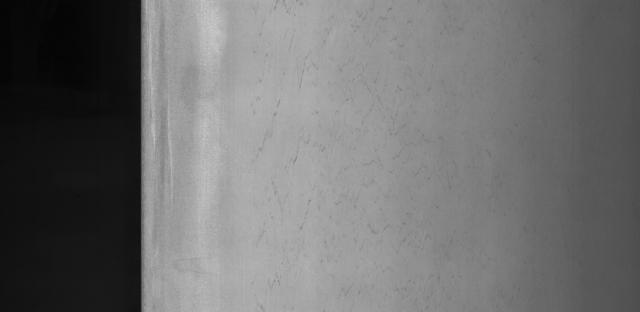silk_spot: (245, 0, 419, 286)
